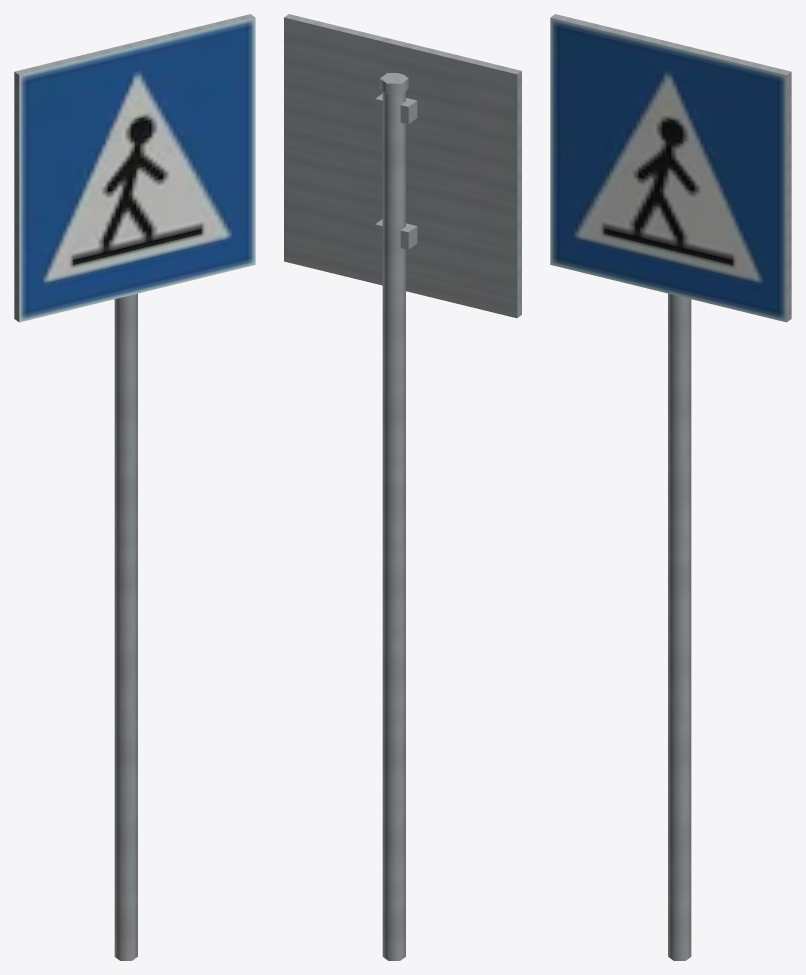
File: panneau_passage_pieton_lod1.glb
3 views of the same model, side by side, from view 1: azimuth 30°, elevation 25°; view 2: azimuth 150°, elevation 25°; view 3: azimuth 330°, elevation 25° (orthographic).
Visible parts, largest first — view 1: panneau_passage_pieton; view 2: panneau_passage_pieton; view 3: panneau_passage_pieton.
Boxes of the visible parts, bbox=[...] form: panneau_passage_pieton: bbox=[14, 14, 255, 960]; panneau_passage_pieton: bbox=[284, 14, 521, 960]; panneau_passage_pieton: bbox=[550, 14, 791, 960].
Size of the model in its own units: 0.7 by 2.6 by 0.095.
Materials: 1 (1 with a texture image).
